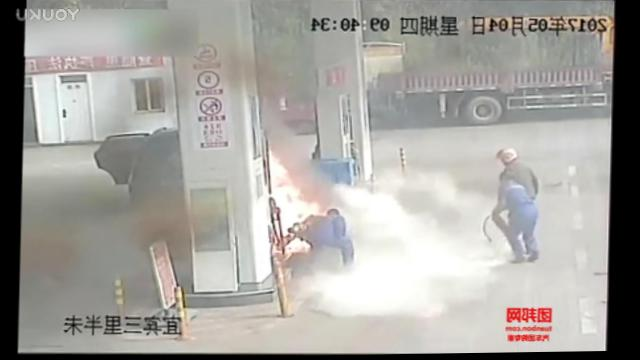fire: (272, 180, 300, 230), (270, 151, 288, 181), (300, 200, 321, 217)
